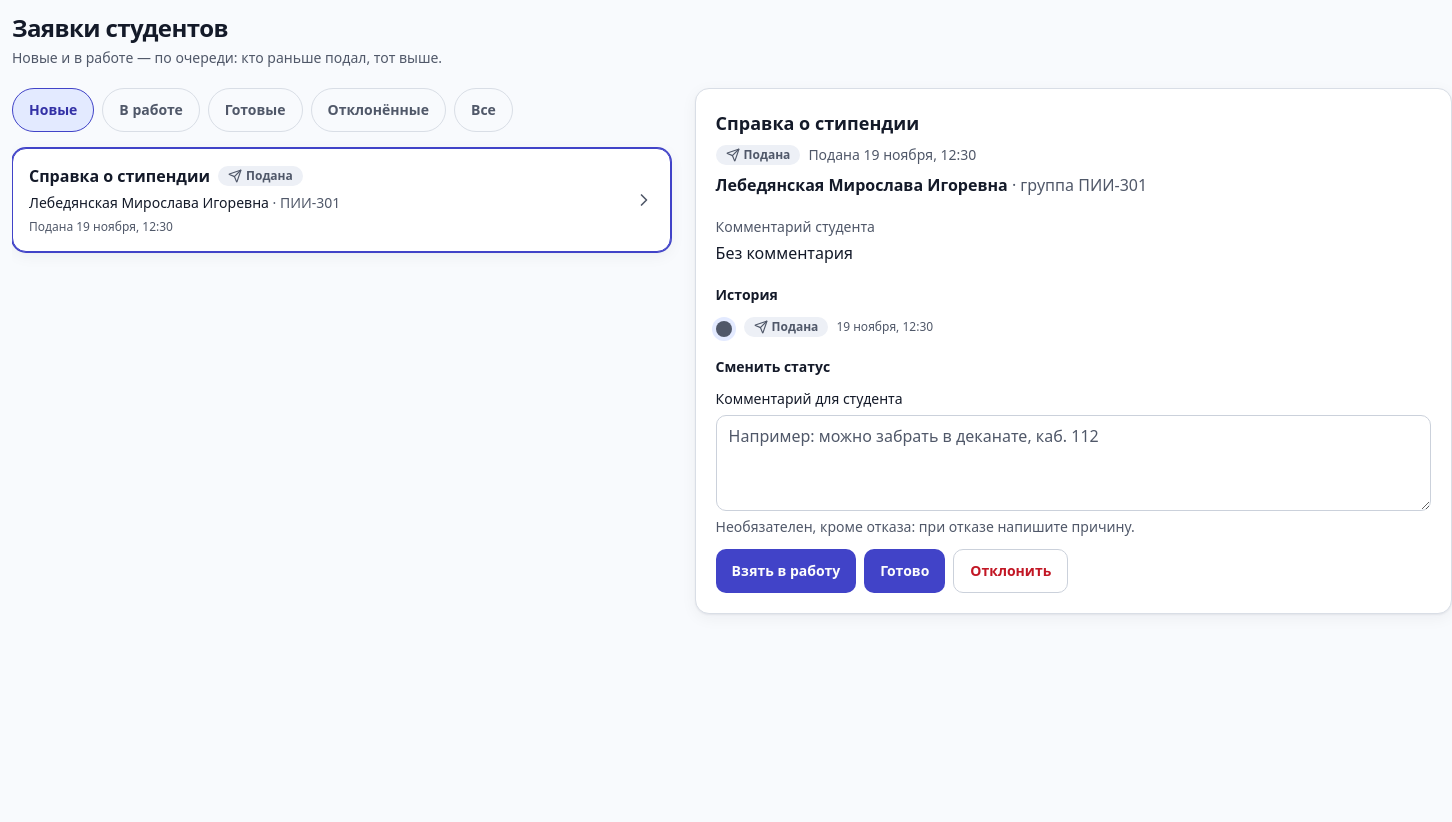
Test case: StaffPage › во время сохранения кнопки заблокированы
Later steps or results of the test are not shown.
What coordinates should you click on to do the following:
click the button "Взять в работу"
I would click on:
 (786, 571)
Its box is [716, 549, 856, 593].
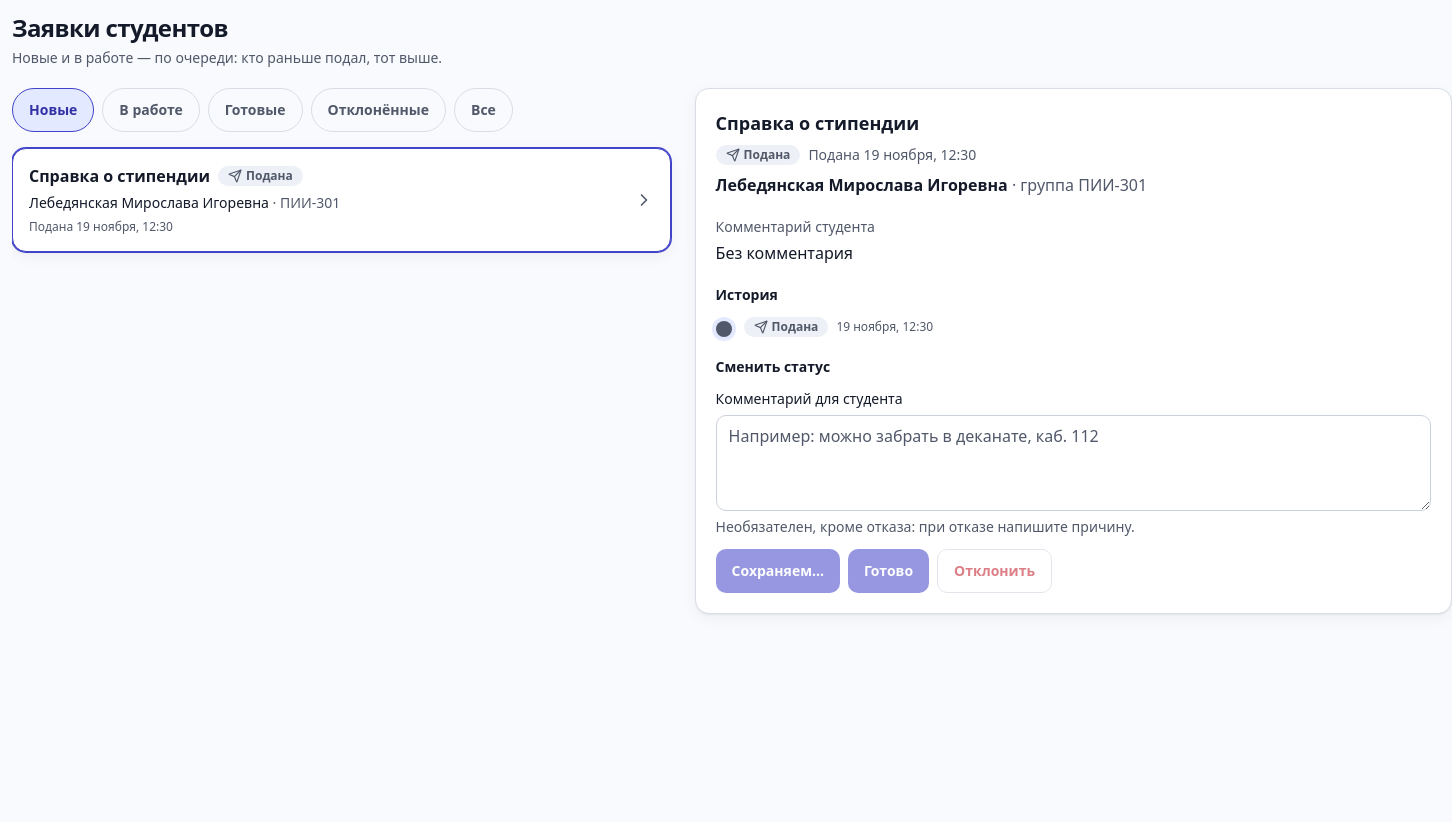
expect the button "Сохраняем…" is disabled: met, box [716, 549, 840, 593]
expect the button "Готово" is disabled: met, box [848, 549, 929, 593]
